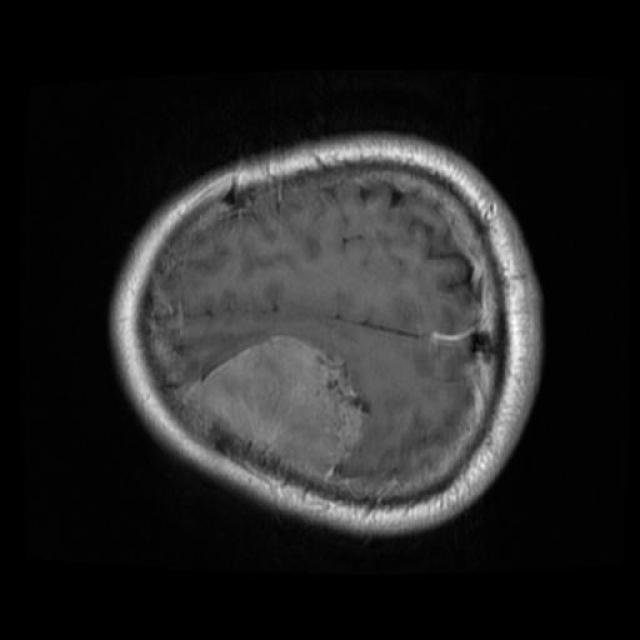Meningioma: (189, 336, 369, 479)
